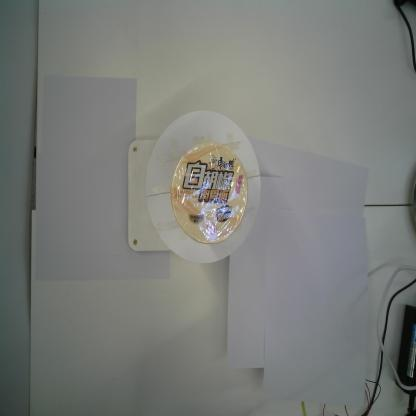Instant Noodles: (170, 140, 248, 245)
